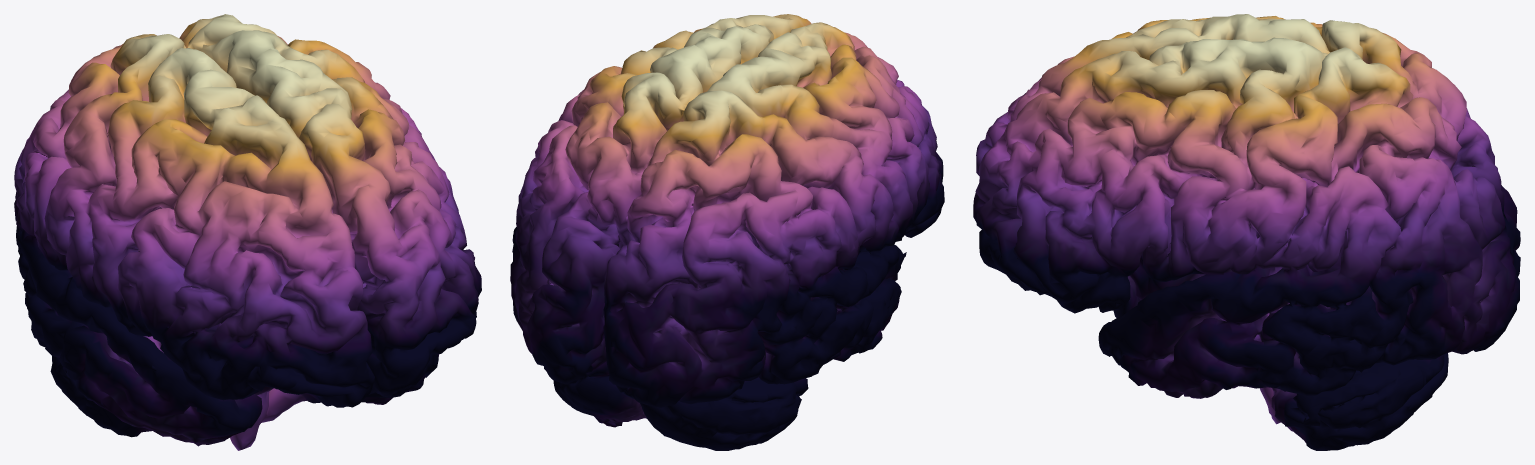
Rendered from flight_brain.glb.
The picture shows the model from 3 angles, left to right: view 1: azimuth 30°, elevation 25°; view 2: azimuth 150°, elevation 25°; view 3: azimuth 270°, elevation 25°; orthographic projection. The views are drawn at different scales.
Visible parts, largest first — view 1: geometry_0; view 2: geometry_0; view 3: geometry_0.
Part boxes in pixels (x1,y1,x2,y2): geometry_0: (14, 14, 481, 450); geometry_0: (510, 14, 944, 450); geometry_0: (973, 14, 1520, 450).
Size of the model in its own units: 127 by 136 by 174.
